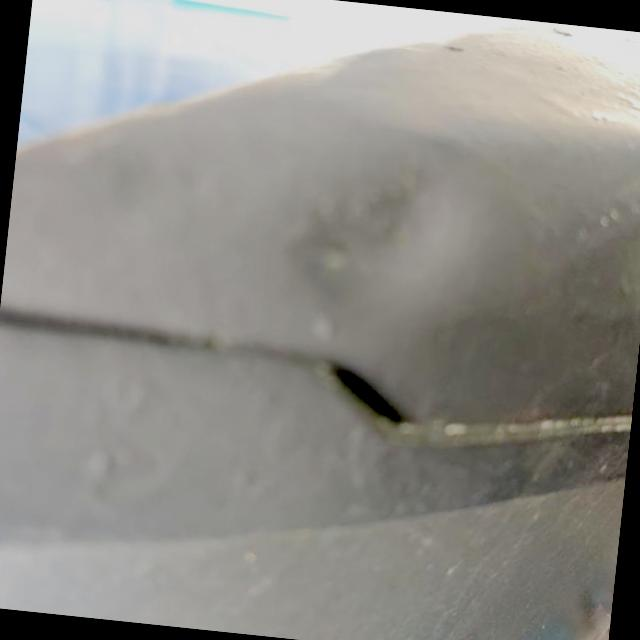dent: (258, 132, 507, 344)
